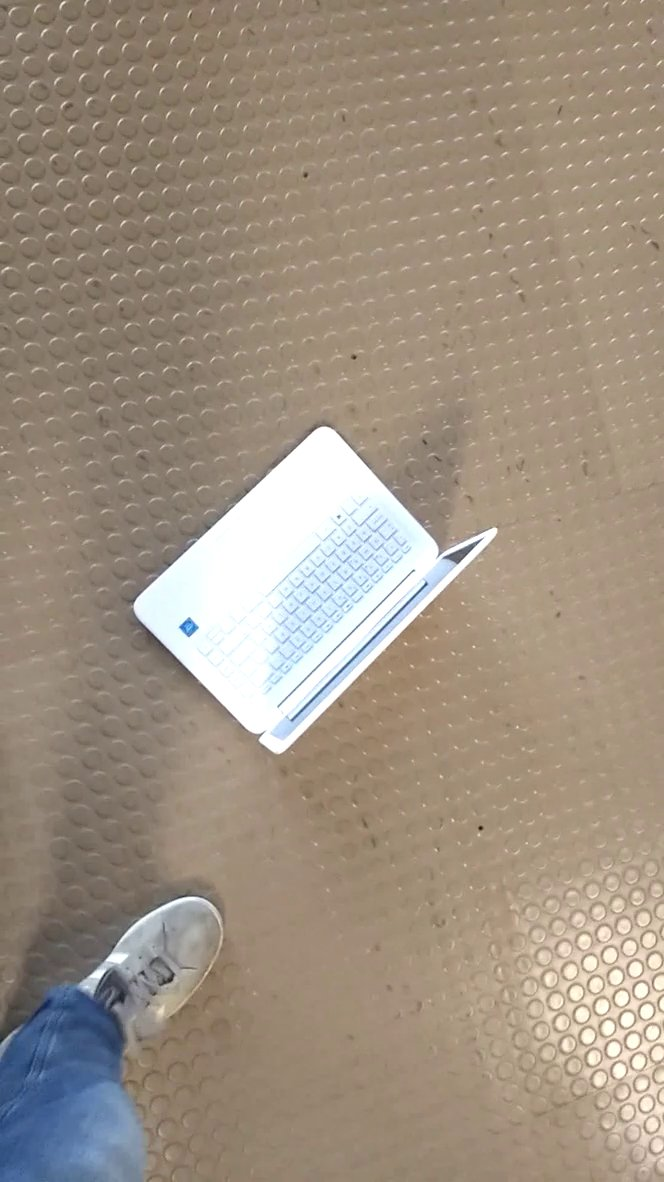laptop: (124, 413, 502, 767)
